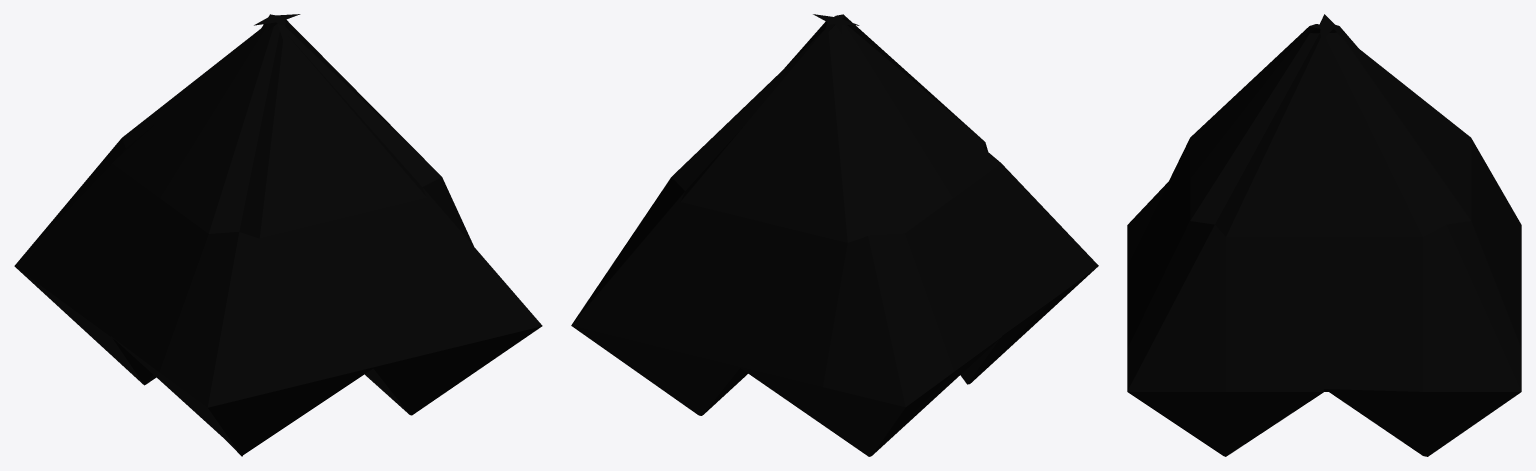
The model's file is BlackHead.obj.
3 renders of one model, left to right at view 1: azimuth 30°, elevation 25°; view 2: azimuth 150°, elevation 25°; view 3: azimuth 270°, elevation 25°, orthographic. The views are drawn at different scales.
Parts seen in each view (by area): view 1: BlackHead; view 2: BlackHead; view 3: BlackHead.
Boxes of the visible parts, x1,y1,x2,y2 form: BlackHead: (14,14,542,456); BlackHead: (571,14,1098,456); BlackHead: (1127,14,1521,456).
Bounding box in the file's own units: 2 × 2.17 × 2.
